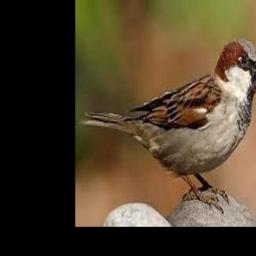Sparrow: (78, 39, 256, 213)
